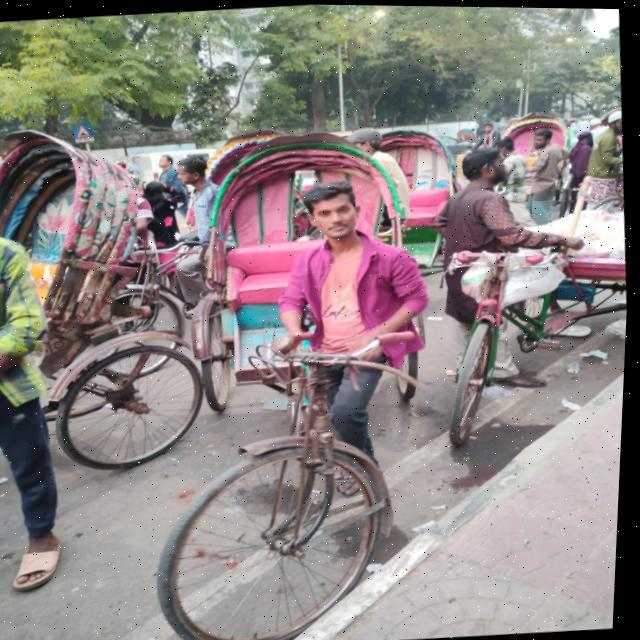rikshaw: (156, 118, 457, 640), (0, 126, 170, 640)
